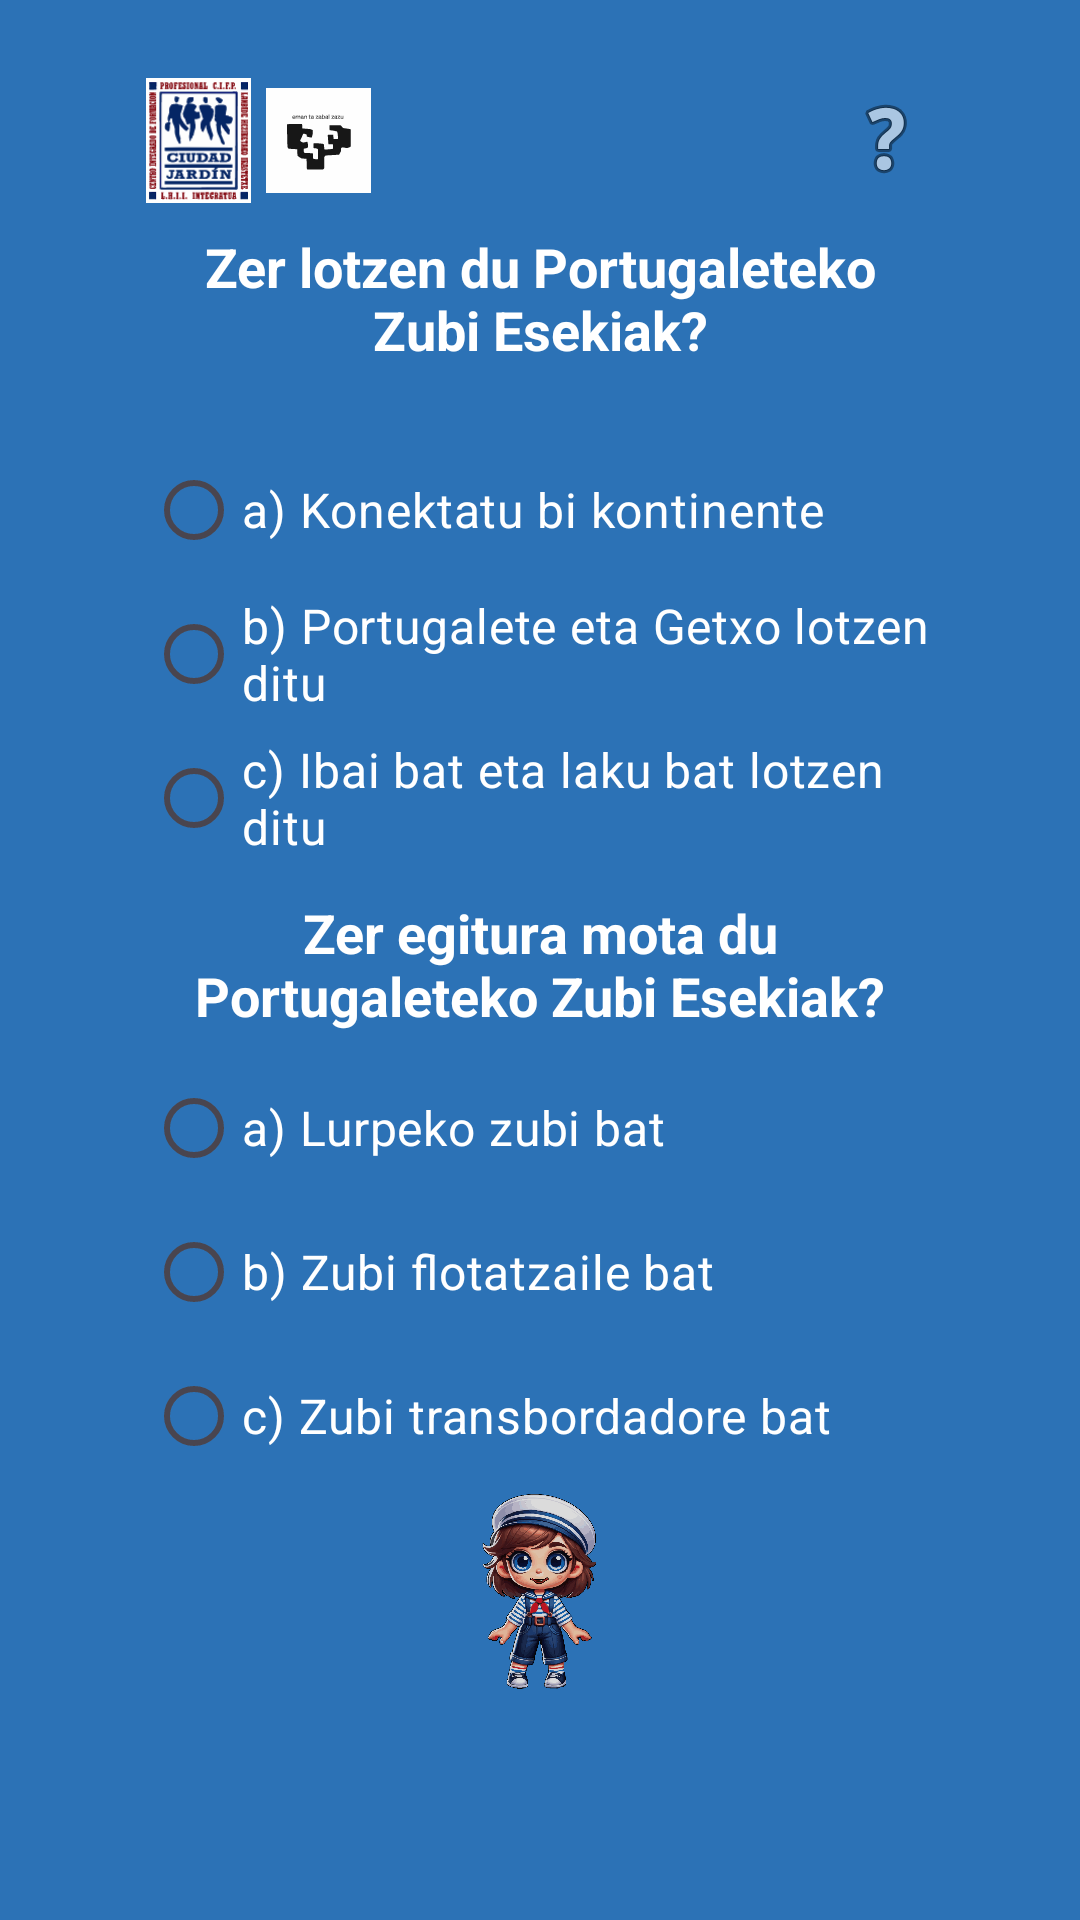

Icons on this 1080 x 1920 Android screen, each with the point to tap as [x,y]:
help: [886,139]
navegante ae: [539,1591]
